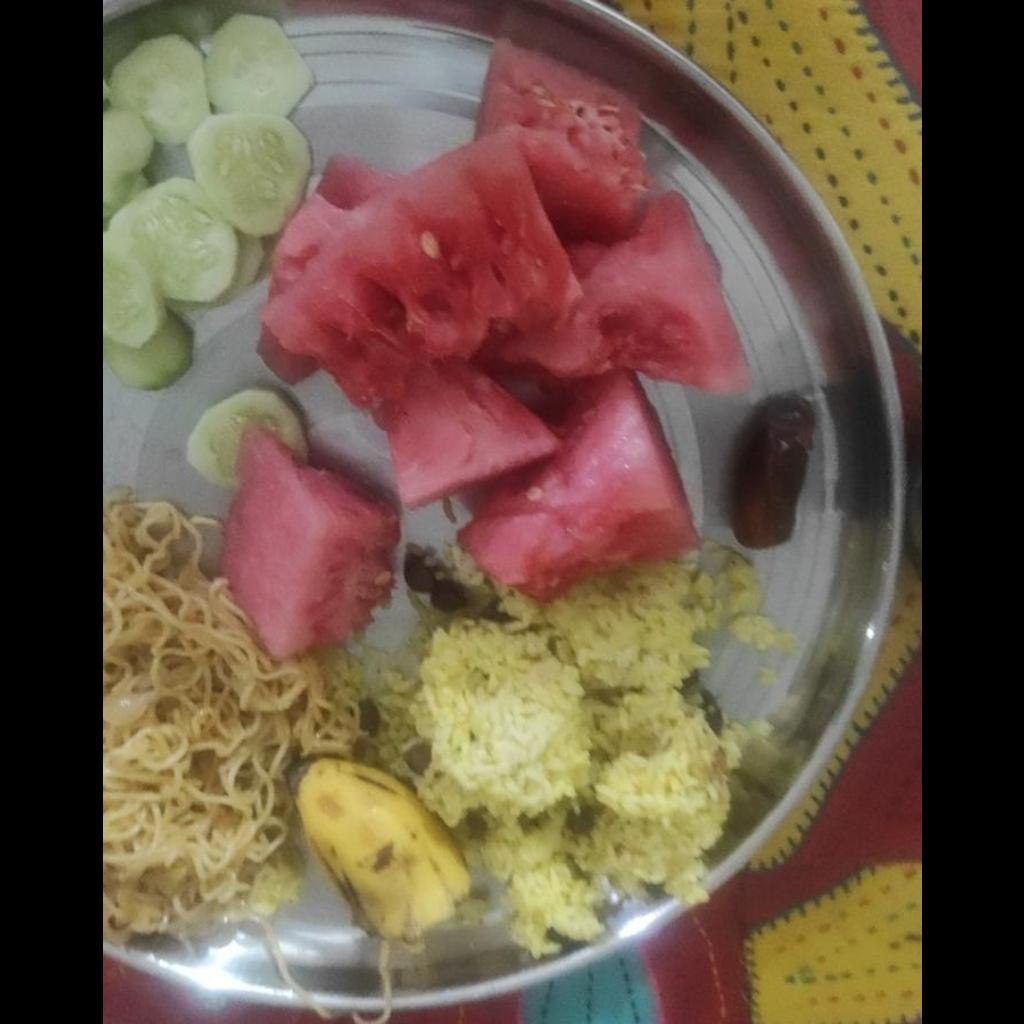banana: (289, 750, 483, 945)
cucumber: (102, 15, 310, 389)
dates: (723, 398, 825, 545)
khichuri: (390, 553, 754, 958)
noodles: (102, 493, 362, 934)
watermelon: (230, 46, 756, 654)
